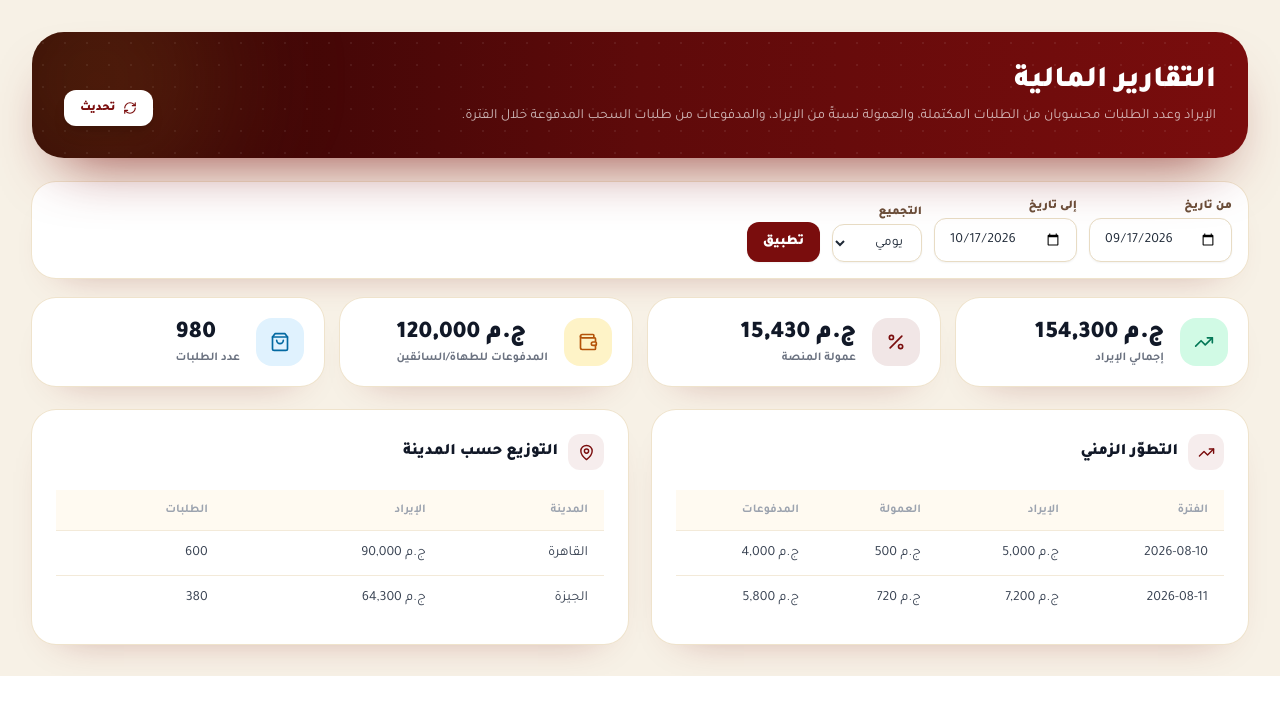
Test: Financial Reports (/admin/reports/financial) › Apply with from later than to shows an inline error and sends no request
Expected: the text "إجمالي الإيراد" is shown, [1095,352,1164,364]
Type "2026-09-20" into the date field labelled "من تاريخ" at (1160, 240), box [1089,218,1232,262]
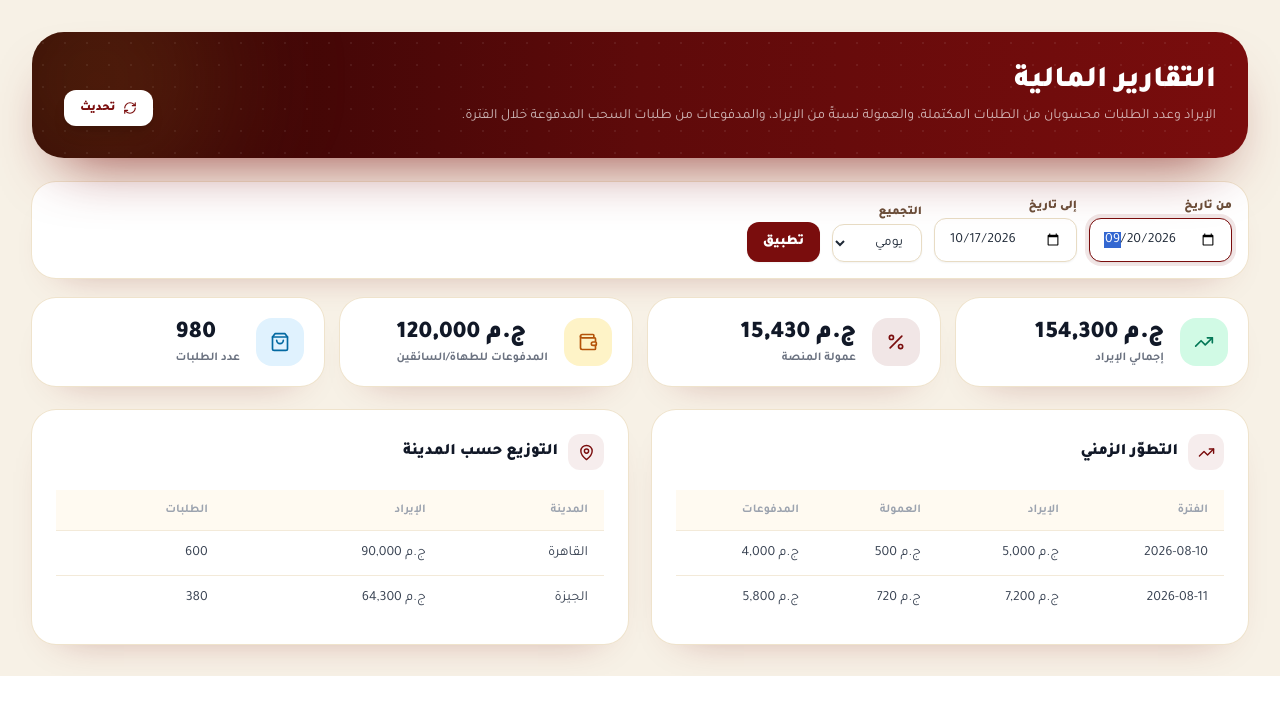
Type "2026-09-01" into the date field labelled "إلى تاريخ" at (1006, 240), box [934,218,1077,262]
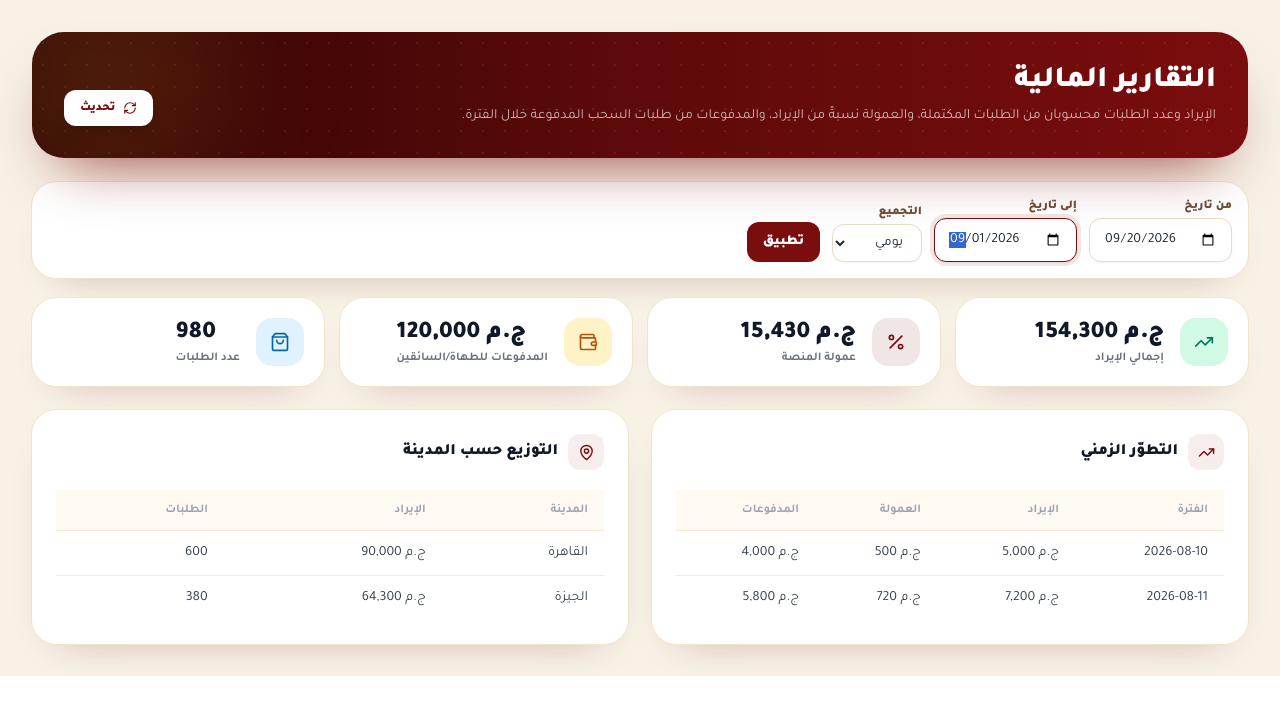
Click the button "تطبيق" at (783, 242), box [747,222,820,262]
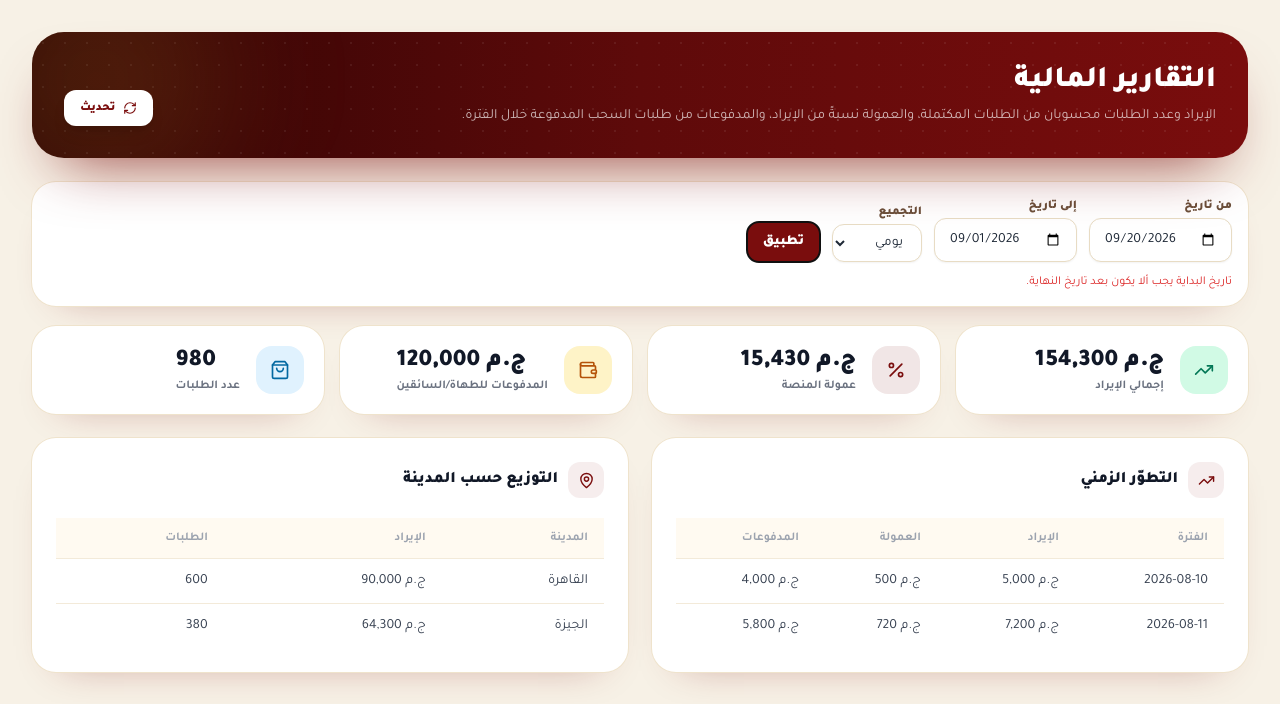
Expected: the text "تاريخ البداية يجب ألا يكون بعد تاريخ النهاية." is shown, [1026,276,1232,288]
